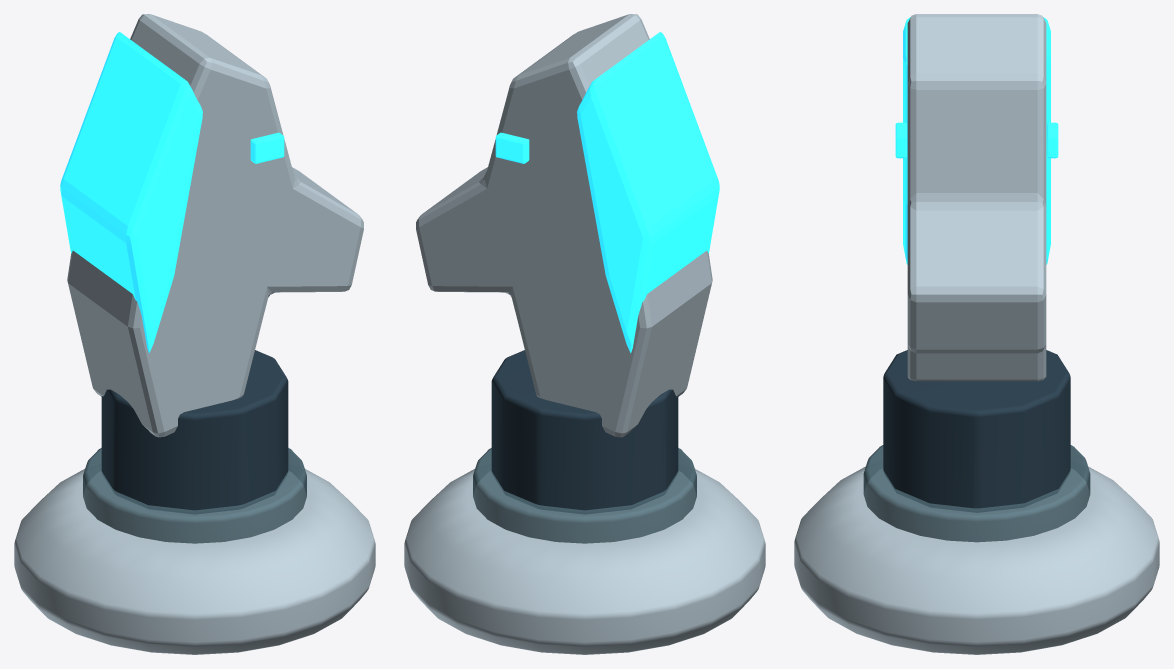
The picture shows the model from 3 angles, left to right: view 1: azimuth 30°, elevation 25°; view 2: azimuth 150°, elevation 25°; view 3: azimuth 270°, elevation 25°; orthographic projection.
Parts seen in each view (by area): view 1: SciFi_n_w; view 2: SciFi_n_w; view 3: SciFi_n_w.
Boxes of the visible parts, left/top/right/bottom form: SciFi_n_w: left=14, top=14, right=375, bottom=654; SciFi_n_w: left=404, top=14, right=765, bottom=654; SciFi_n_w: left=794, top=14, right=1159, bottom=654.
Size of the model in its own units: 0.58 by 0.98 by 0.58.
